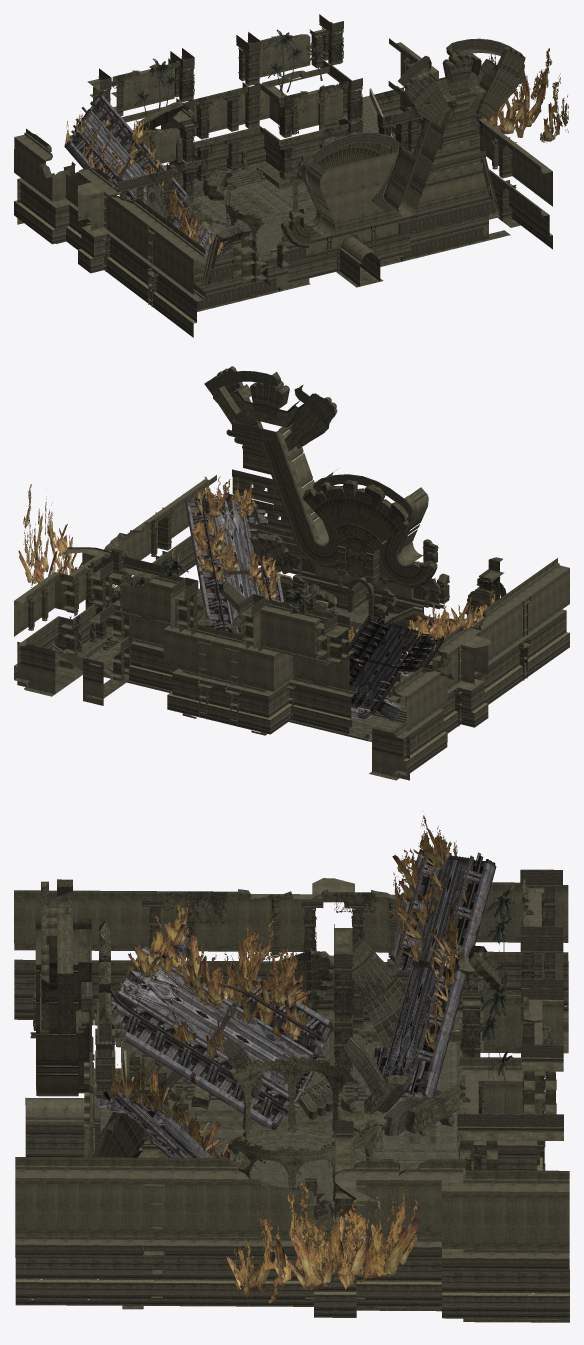
Rendered from Map_Battle.fbx.
The picture shows the model from 3 angles, top to bottom: view 1: azimuth 30°, elevation 25°; view 2: azimuth 150°, elevation 25°; view 3: azimuth 270°, elevation 25°; orthographic projection. The views are drawn at different scales.
Visible parts, largest first — view 1: mesh_79, mesh_85, mesh_86, mesh_87, mesh_75, mesh_80, mesh_74, mesh_91, mesh_81, mesh_83, mesh_76, mesh_96 (+4 smaller); view 2: mesh_79, mesh_86, mesh_87, mesh_85, mesh_80, mesh_75, mesh_82, mesh_81, mesh_74, mesh_83, mesh_77, mesh_91 (+2 smaller); view 3: mesh_86, mesh_79, mesh_80, mesh_75, mesh_85, mesh_81, mesh_74, mesh_87, mesh_91, mesh_96, mesh_76, mesh_77 (+3 smaller).
Boxes of the visible parts, box(x1,y1,x2,y2) form: mesh_79: box(39, 14, 525, 310); mesh_85: box(17, 55, 498, 307); mesh_86: box(14, 37, 552, 337); mesh_87: box(131, 83, 348, 209); mesh_75: box(65, 48, 568, 254); mesh_80: box(64, 94, 481, 258); mesh_74: box(109, 36, 488, 259); mesh_91: box(188, 178, 510, 311); mesh_81: box(14, 121, 552, 333); mesh_83: box(222, 205, 311, 285); mesh_76: box(134, 29, 325, 116); mesh_96: box(239, 211, 316, 258); mesh_79: box(36, 366, 530, 727); mesh_86: box(14, 475, 569, 780); mesh_87: box(86, 605, 369, 741); mesh_85: box(17, 423, 500, 780); mesh_80: box(185, 493, 482, 721); mesh_75: box(18, 475, 495, 679); mesh_82: box(129, 665, 350, 730); mesh_81: box(14, 555, 569, 771); mesh_74: box(69, 485, 501, 711); mesh_83: box(410, 539, 503, 627); mesh_77: box(286, 575, 468, 619); mesh_91: box(72, 600, 404, 742); mesh_86: box(14, 878, 569, 1322); mesh_79: box(40, 869, 563, 1299); mesh_80: box(94, 849, 496, 1157); mesh_75: box(106, 815, 467, 1303); mesh_85: box(25, 898, 559, 1265); mesh_81: box(14, 990, 569, 1313); mesh_74: box(113, 891, 545, 1226); mesh_87: box(459, 956, 542, 1171); mesh_91: box(100, 1041, 461, 1311); mesh_96: box(212, 1127, 381, 1203); mesh_76: box(474, 884, 515, 1113); mesh_77: box(112, 1009, 454, 1143).
Size of the model in its own units: 212 by 98.52 by 136.
